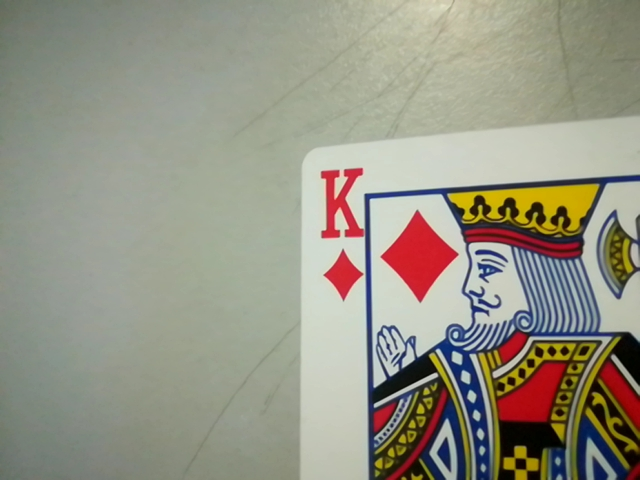fk k: (307, 158, 370, 299)
